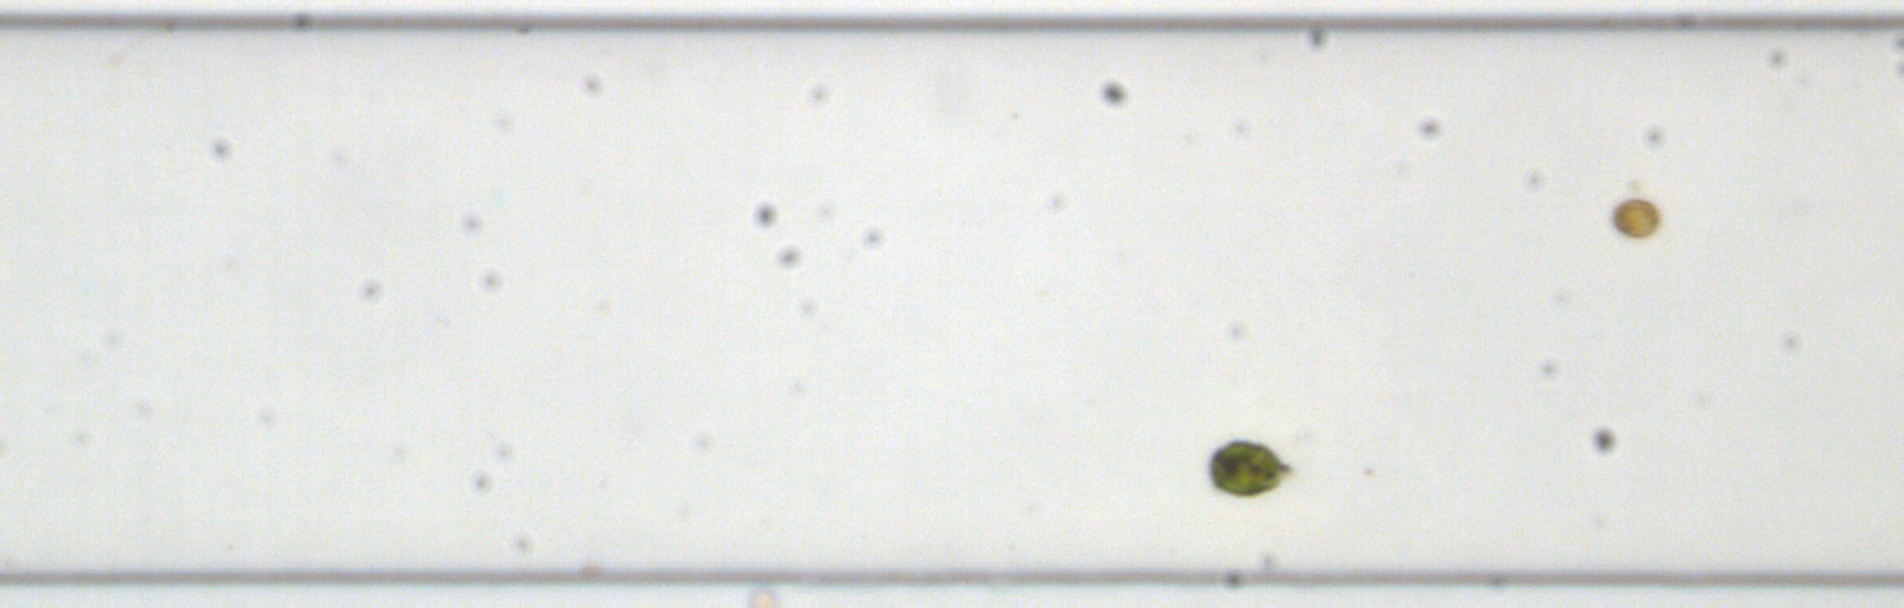Effrenium: (1606, 195, 1661, 242)
Haematococcus: (1206, 437, 1292, 495)
